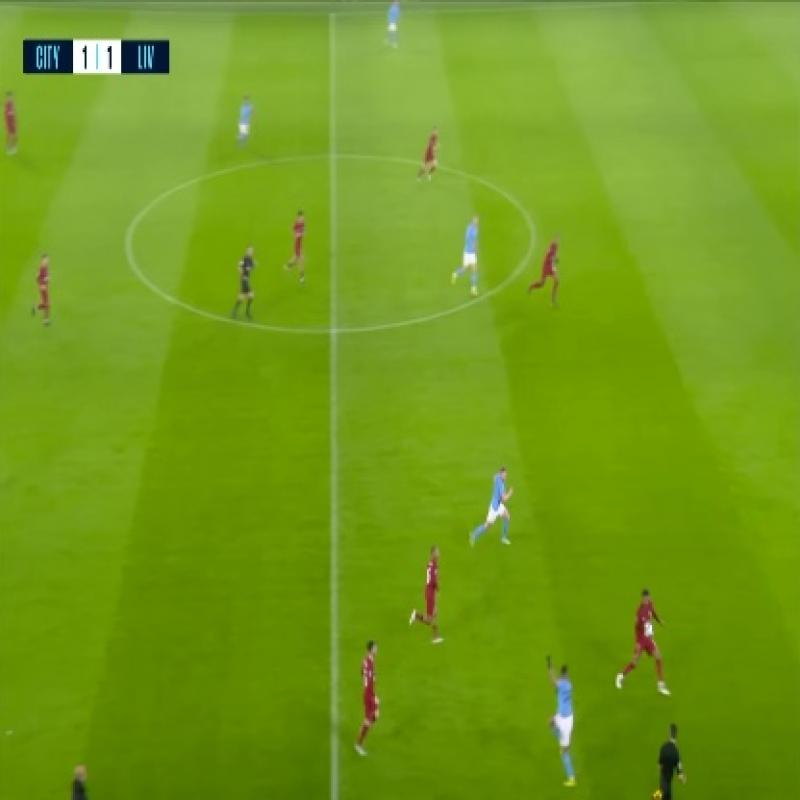13: (319, 0, 346, 31)
14: (314, 137, 348, 175)
15: (315, 308, 348, 350)
c: (106, 212, 150, 282), (516, 215, 552, 260)
